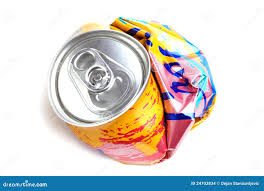can: (49, 15, 221, 167)
